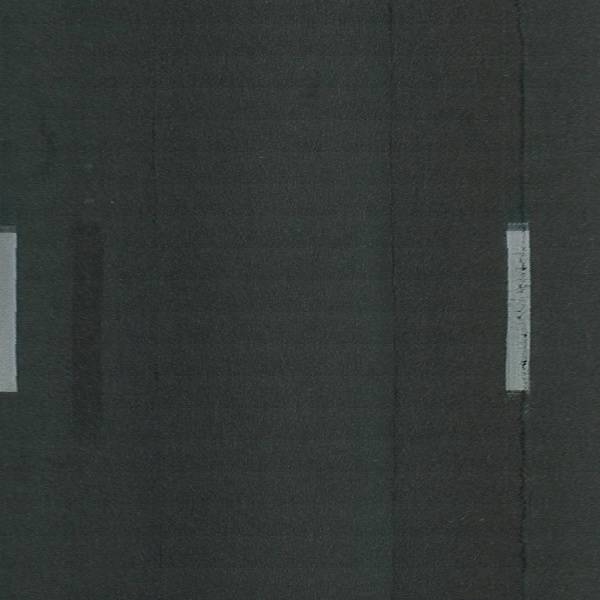road_damage: (384, 19, 405, 504), (517, 394, 530, 570)
